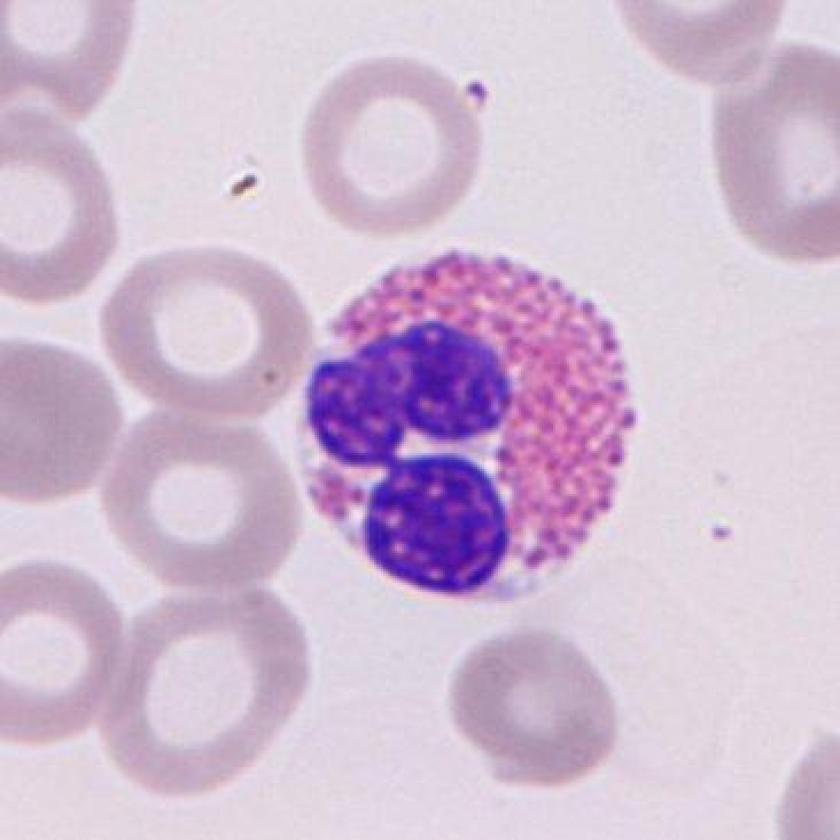eosinophil: (274, 243, 644, 614)
